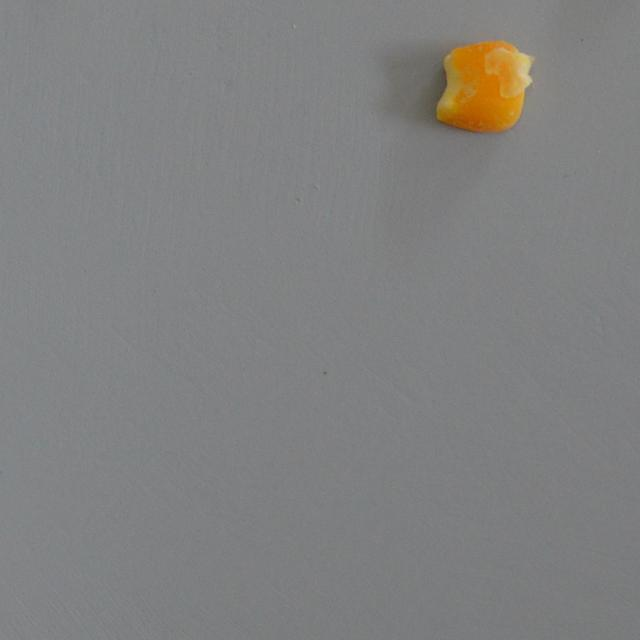pelicula: (431, 38, 534, 138)
